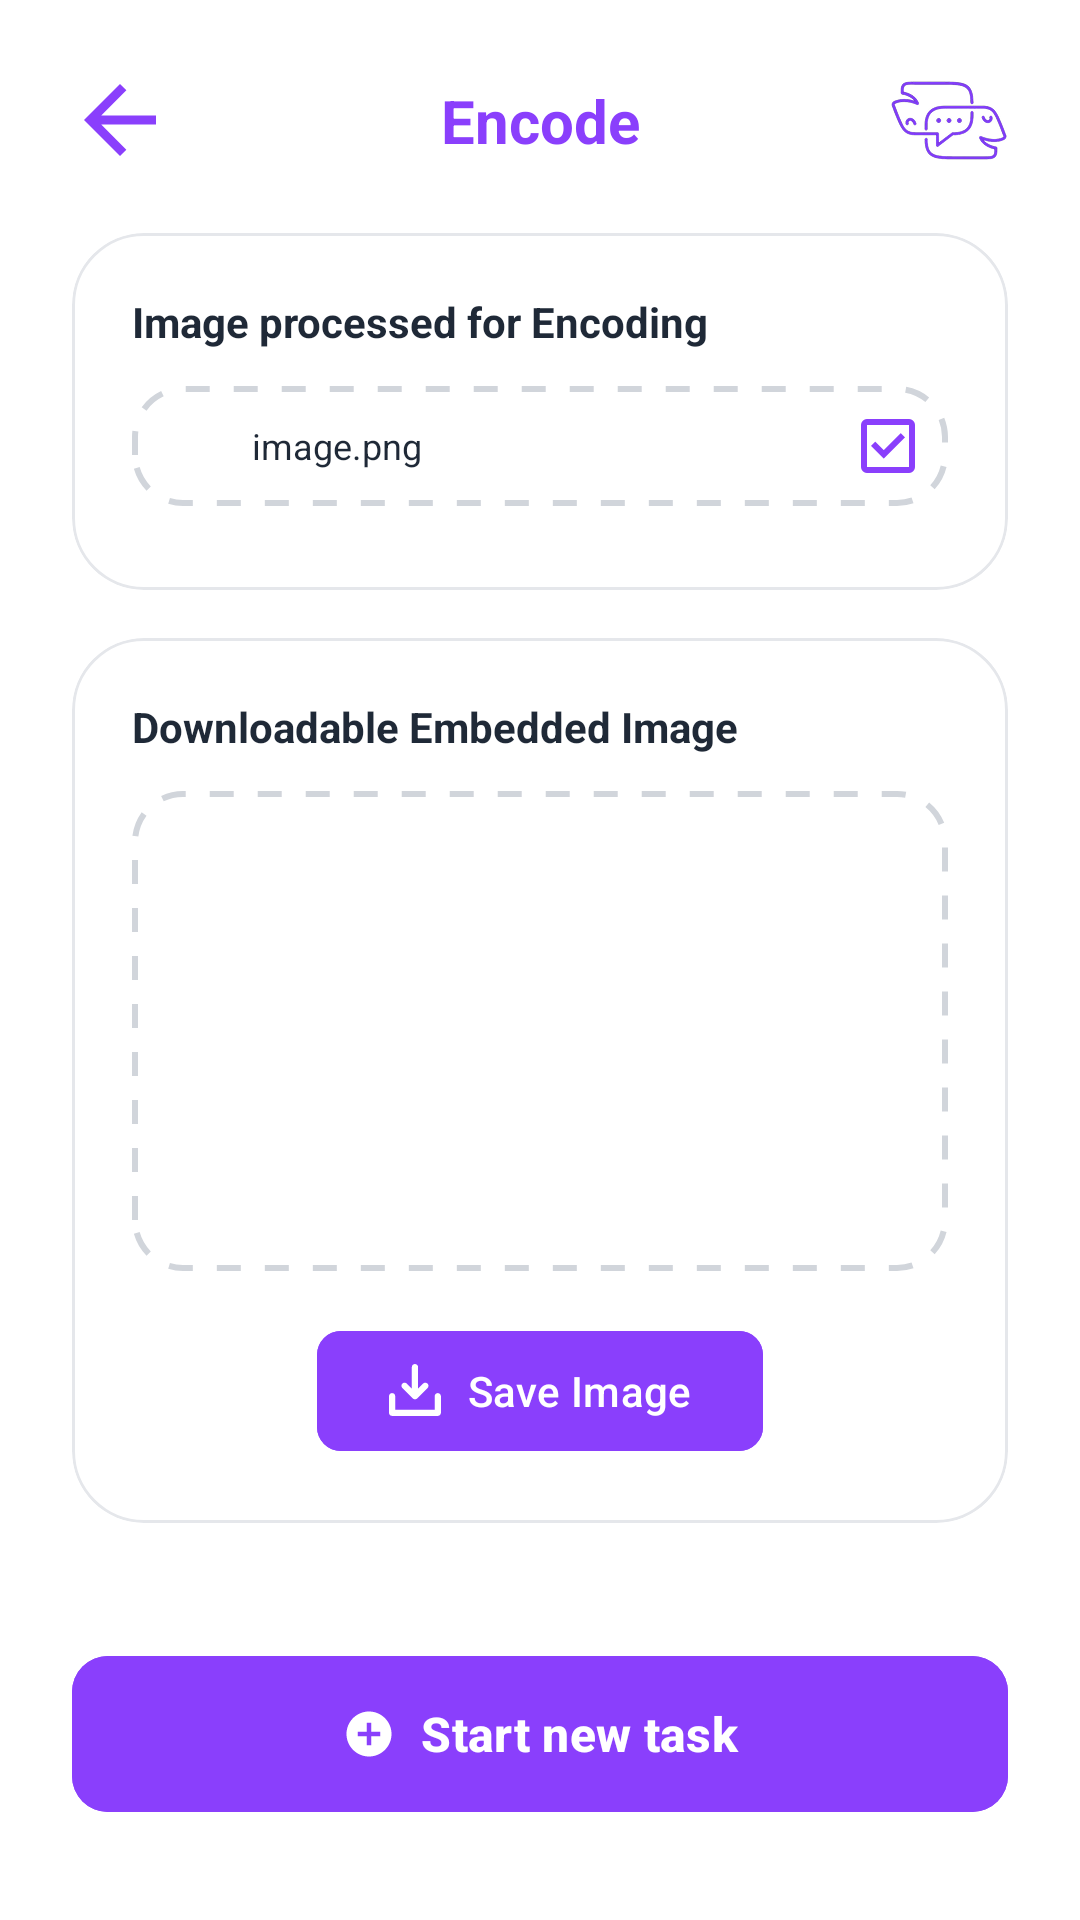

Locate icon controls on the screen. Image size 1080w x 1920h, boxes as (x1, y1, x2, y2).
arrow back: (84, 84, 156, 156)
checkbox: (861, 419, 915, 473)
